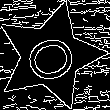O_E: (17, 26, 83, 86)
